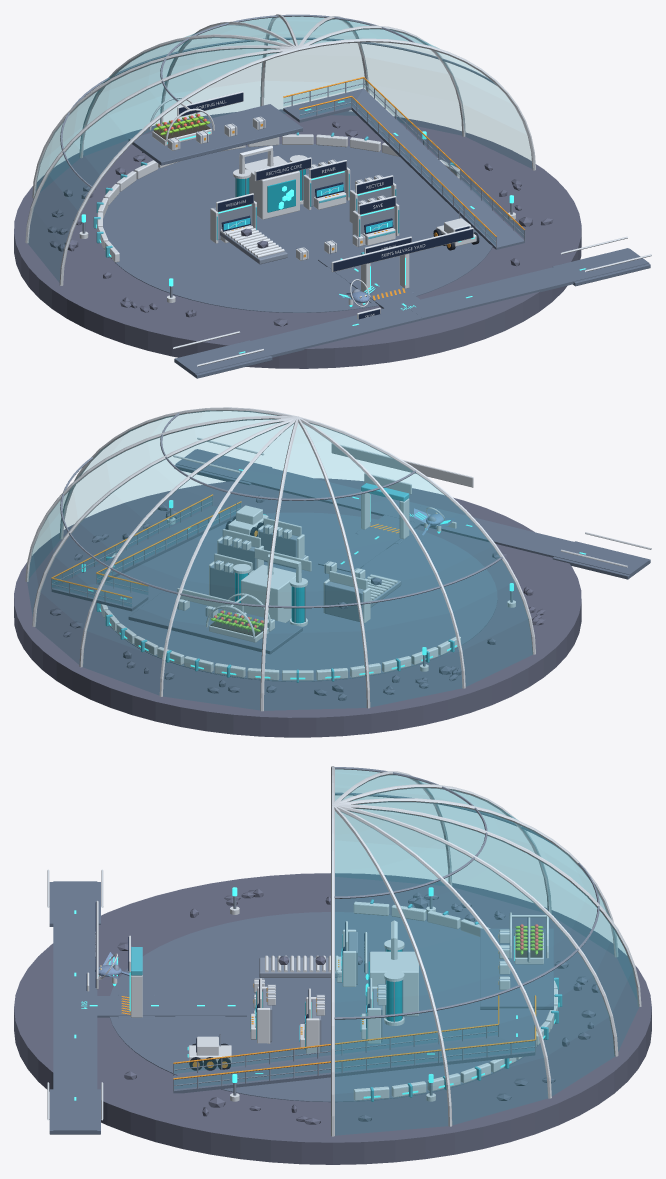
Rendered from skim.glb.
3 views of the same model, one above another, from view 1: azimuth 30°, elevation 25°; view 2: azimuth 150°, elevation 25°; view 3: azimuth 270°, elevation 25° (orthographic). The views are drawn at different scales.
Visible parts, largest first — view 1: BATCH_skim floor.005, BATCH_skim rock.005, BATCH_skim glass.005, BATCH_skim white.005, BATCH_skim steel.005, BATCH_skim navy.005, BATCH_skim orange.005, BATCH_skim water.005, BATCH_skim cyan.005, BATCH_skim accent.005, BATCH_skim screen.005; view 2: BATCH_skim glass.005, BATCH_skim rock.005, BATCH_skim floor.005, BATCH_skim white.005, BATCH_skim steel.005, BATCH_skim accent.005, BATCH_skim orange.005, BATCH_skim water.005, BATCH_skim cyan.005; view 3: BATCH_skim glass.005, BATCH_skim rock.005, BATCH_skim floor.005, BATCH_skim white.005, BATCH_skim steel.005, BATCH_skim orange.005, BATCH_skim accent.005, BATCH_skim cyan.005, BATCH_skim water.005, BATCH_skim navy.005.
Part boxes in pixels (left/top/right/bottom): BATCH_skim floor.005: left=103, top=88, right=650, bottom=378; BATCH_skim rock.005: left=14, top=109, right=581, bottom=368; BATCH_skim glass.005: left=28, top=17, right=531, bottom=281; BATCH_skim white.005: left=25, top=14, right=651, bottom=366; BATCH_skim steel.005: left=60, top=14, right=525, bottom=297; BATCH_skim navy.005: left=179, top=92, right=473, bottom=319; BATCH_skim orange.005: left=175, top=77, right=525, bottom=300; BATCH_skim water.005: left=235, top=169, right=305, bottom=212; BATCH_skim cyan.005: left=81, top=100, right=585, bottom=353; BATCH_skim accent.005: left=93, top=132, right=454, bottom=257; BATCH_skim screen.005: left=223, top=184, right=392, bottom=232; BATCH_skim glass.005: left=27, top=410, right=532, bottom=710; BATCH_skim rock.005: left=14, top=478, right=581, bottom=737; BATCH_skim floor.005: left=51, top=449, right=650, bottom=681; BATCH_skim white.005: left=25, top=407, right=651, bottom=711; BATCH_skim steel.005: left=51, top=412, right=512, bottom=666; BATCH_skim accent.005: left=96, top=483, right=454, bottom=682; BATCH_skim orange.005: left=51, top=494, right=399, bottom=598; BATCH_skim water.005: left=235, top=572, right=304, bottom=623; BATCH_skim cyan.005: left=81, top=469, right=585, bottom=679; BATCH_skim glass.005: left=174, top=769, right=638, bottom=1135; BATCH_skim rock.005: left=14, top=873, right=651, bottom=1164; BATCH_skim floor.005: left=49, top=881, right=553, bottom=1134; BATCH_skim white.005: left=47, top=766, right=641, bottom=1136; BATCH_skim steel.005: left=173, top=767, right=599, bottom=1095; BATCH_skim orange.005: left=121, top=935, right=536, bottom=1079; BATCH_skim accent.005: left=130, top=899, right=562, bottom=1101; BATCH_skim cyan.005: left=74, top=887, right=559, bottom=1100; BATCH_skim water.005: left=368, top=949, right=402, bottom=1021; BATCH_skim navy.005: left=86, top=902, right=528, bottom=1052.
Size of the model in its own units: 52 by 20.3 by 52.
